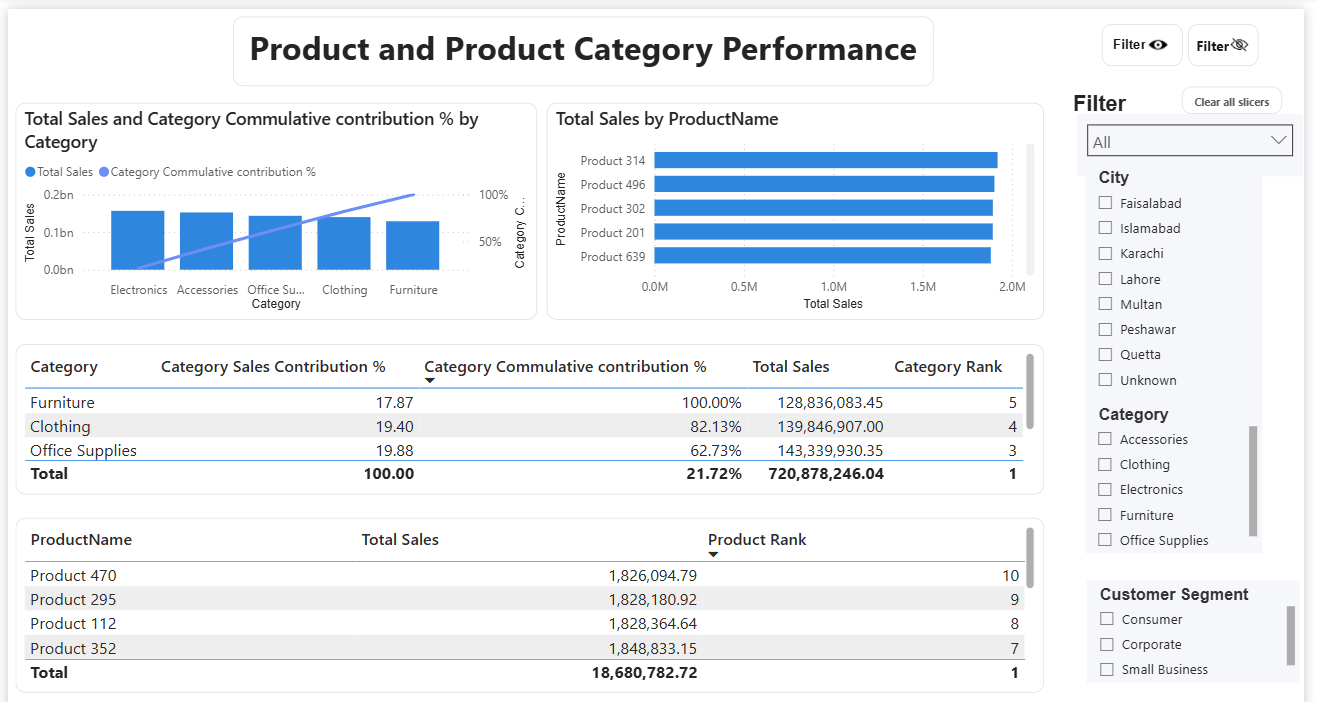

The dashboard page shown, as its layout file describes it:
{"tool":"powerbi","page":{"name":"Product and Product Category Performance","canvas":[1280,720],"ordinal":4},"visuals":[{"type":"textbox","box":[1041.3,76,74.5,42.1],"z":0,"group":"g1"},{"type":"tableEx","fields":{"Values":["DimProducts.Category","Measures (2).Category Sales Contribution %","Measures (2).Commulative contribution % Category","Measures (2).Total Sales","Measures (2).Category Rank"]},"box":[7.4,331.3,1016,148.5],"z":0},{"type":"lineClusteredColumnComboChart","fields":{"Category":["DimProducts.Category"],"Y":["Measures (2).Total Sales"],"Y2":["Measures (2).Commulative contribution % Category"]},"box":[7.4,92,515.3,214.7],"z":1000},{"type":"slicer","fields":{"Values":["DimDate.Year","DimDate.MonthName"]},"box":[1055.9,103.7,223.4,61.9],"z":1000,"group":"g1"},{"type":"slicer","fields":{"Values":["DimCustomers.City"]},"box":[1065.2,152.4,174.2,233.1],"z":2000,"group":"g1"},{"type":"tableEx","fields":{"Values":["DimProducts.ProductName","Measures (2).Total Sales","Measures (2).Product Rank"]},"box":[7.4,503.1,1016,173],"z":2000},{"type":"clusteredBarChart","fields":{"Category":["DimProducts.ProductName"],"Y":["Measures (2).Total Sales"]},"box":[532.5,92,490.8,214.7],"z":3000},{"type":"slicer","fields":{"Values":["DimCustomers.CustomerSegment"]},"box":[1066.2,564,210.7,101.3],"z":3000,"group":"g1"},{"type":"textbox","box":[222.1,7.4,692,68.7],"z":4000},{"type":"slicer","fields":{"Values":["DimProducts.Category"]},"box":[1065.2,385.5,174.2,151.5],"z":4000,"group":"g1"},{"type":"group","id":"g1","title":"Group 1","box":[1041.3,76,238.1,589.3],"z":5000},{"type":"actionButton","box":[1165.3,14.7,69.3,41.3],"z":6000},{"type":"actionButton","box":[1080,14.7,80,41.3],"z":7000},{"type":"actionButton","box":[1159.5,76.1,99.4,27],"z":8000}]}

Visuals, with their boxes on the page's 1280x720 design canvas (x1, y1, x2, y2). These are canvas units, not pixel positions in the 1317x702 screenshot, which may show the page scaled, cropped or inside an application window:
textbox: BBox(1041, 76, 1116, 118)
tableEx - DimProducts.Category x Measures (2).Category Sales Contribution %: BBox(7, 331, 1023, 480)
lineClusteredColumnComboChart - DimProducts.Category x Measures (2).Total Sales: BBox(7, 92, 523, 307)
slicer - DimDate.Year x DimDate.MonthName: BBox(1056, 104, 1279, 166)
slicer - DimCustomers.City: BBox(1065, 152, 1239, 386)
tableEx - DimProducts.ProductName x Measures (2).Total Sales: BBox(7, 503, 1023, 676)
clusteredBarChart - DimProducts.ProductName x Measures (2).Total Sales: BBox(532, 92, 1023, 307)
slicer - DimCustomers.CustomerSegment: BBox(1066, 564, 1277, 665)
textbox: BBox(222, 7, 914, 76)
slicer - DimProducts.Category: BBox(1065, 386, 1239, 537)
"Group 1" group: BBox(1041, 76, 1279, 665)
actionButton: BBox(1165, 15, 1235, 56)
actionButton: BBox(1080, 15, 1160, 56)
actionButton: BBox(1160, 76, 1259, 103)
